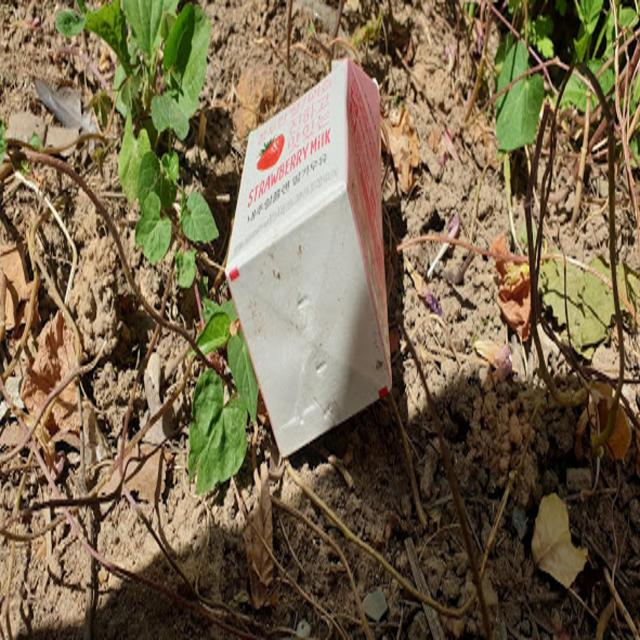paperpack: (226, 58, 392, 455)
